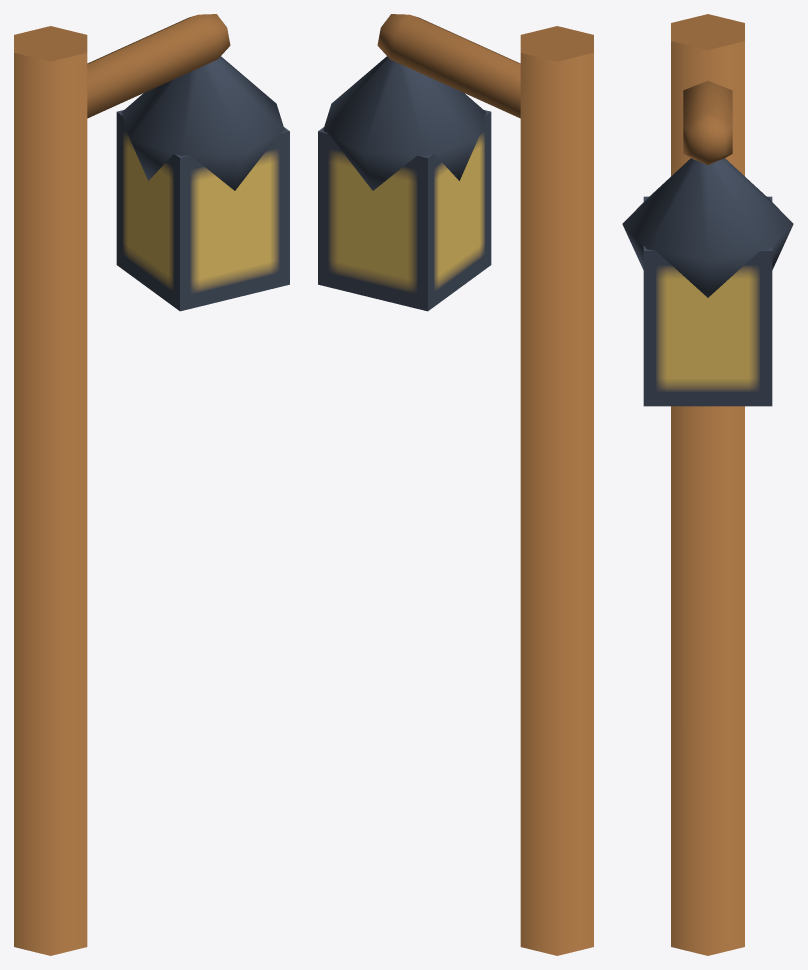
Rendered from prop_lantern_592f.glb.
3 views of the same model, side by side, from view 1: azimuth 30°, elevation 25°; view 2: azimuth 150°, elevation 25°; view 3: azimuth 270°, elevation 25° (orthographic).
Visible parts, largest first — view 1: prop_lantern_592f; view 2: prop_lantern_592f; view 3: prop_lantern_592f.
Part boxes in pixels (box(x1,y1,x2,y2)): prop_lantern_592f: box(14, 14, 289, 955); prop_lantern_592f: box(318, 14, 593, 955); prop_lantern_592f: box(622, 14, 793, 955).
Size of the model in its own units: 0.3801 by 1.24 by 0.2122.
Materials: 1 (1 with a texture image).
